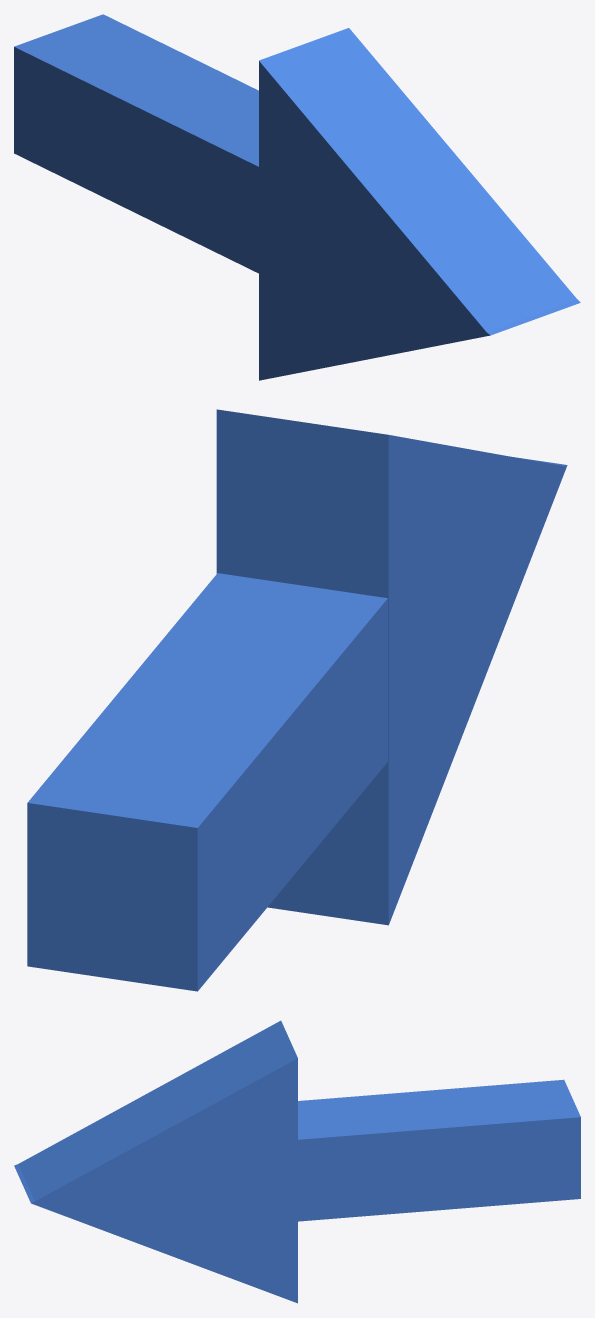
File: arrow.fbx
3 views of the same model, one above another, from view 1: azimuth 30°, elevation 25°; view 2: azimuth 150°, elevation 25°; view 3: azimuth 270°, elevation 25° (orthographic). The views are drawn at different scales.
Parts seen in each view (by area): view 1: arrow; view 2: arrow; view 3: arrow.
Part boxes in pixels (x1,y1,x2,y2): arrow: (14, 14, 580, 380); arrow: (27, 409, 567, 991); arrow: (14, 1020, 580, 1303).
Bounding box in the file's own units: 8.59 × 12 × 25.14.
